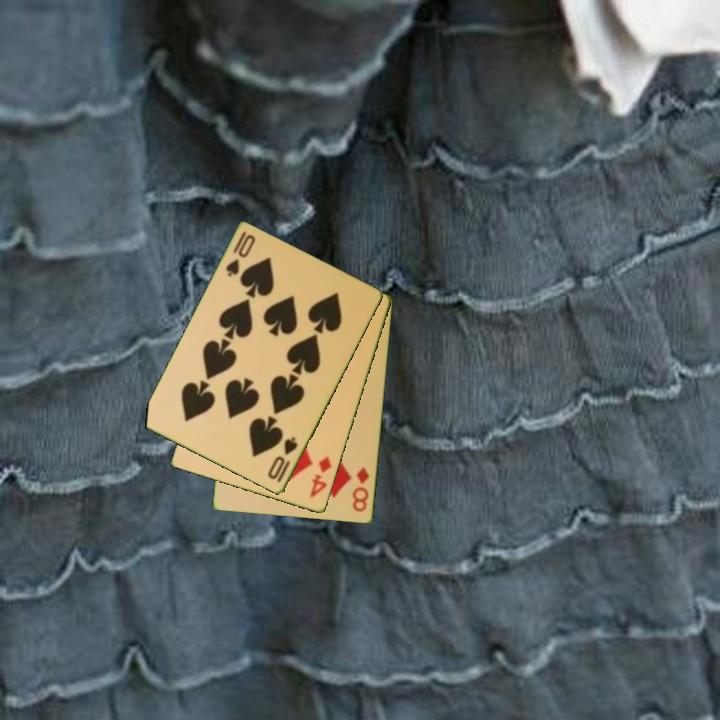10s: (264, 434, 301, 486), (222, 228, 258, 280)
4d: (306, 453, 335, 501)
8d: (349, 464, 372, 515)
